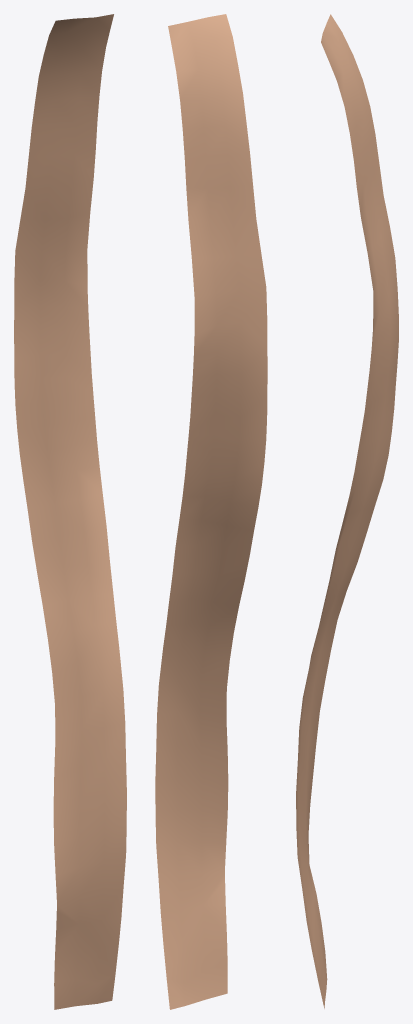
File: vertebral-region-r.glb
3 views of the same model, side by side, from view 1: azimuth 30°, elevation 25°; view 2: azimuth 210°, elevation 25°; view 3: azimuth 270°, elevation 25° (orthographic). The views are drawn at different scales.
Parts seen in each view (by area): view 1: Vertebral region.r; view 2: Vertebral region.r; view 3: Vertebral region.r.
Part boxes in pixels (bbox=[...]): Vertebral region.r: bbox=[14, 14, 126, 1009]; Vertebral region.r: bbox=[155, 14, 267, 1009]; Vertebral region.r: bbox=[296, 14, 398, 1008].
Size of the model in its own units: 0.0322 by 0.4654 by 0.0447.
